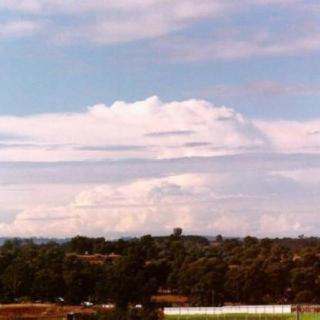Stratocumulus: (0, 91, 320, 233)
